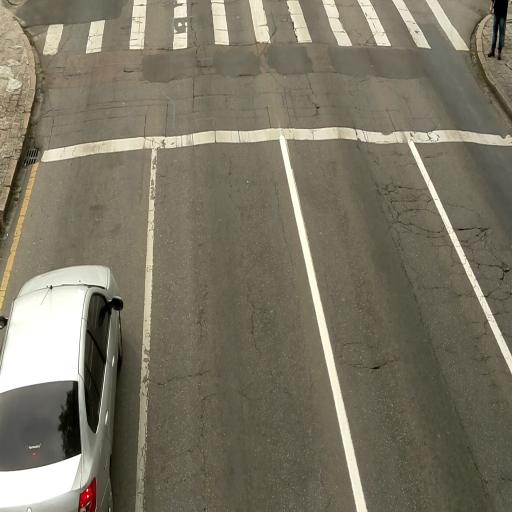car: (0, 264, 125, 510)
